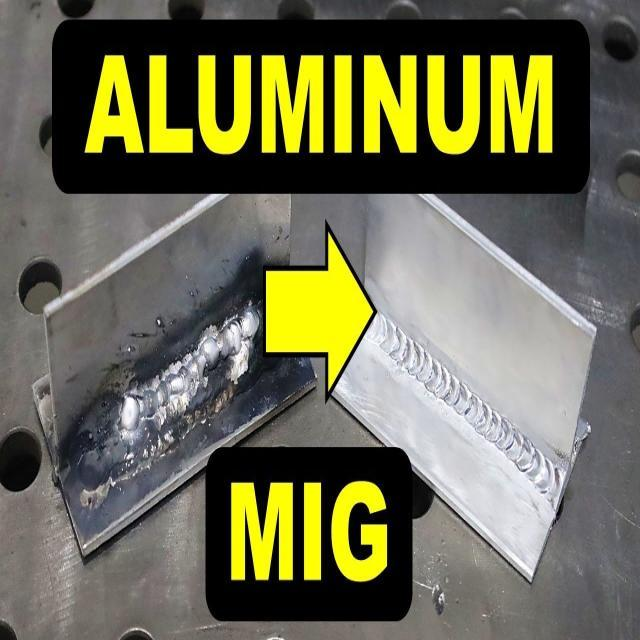Bad Welding: (44, 196, 316, 556)
Good Welding: (365, 311, 561, 506)
